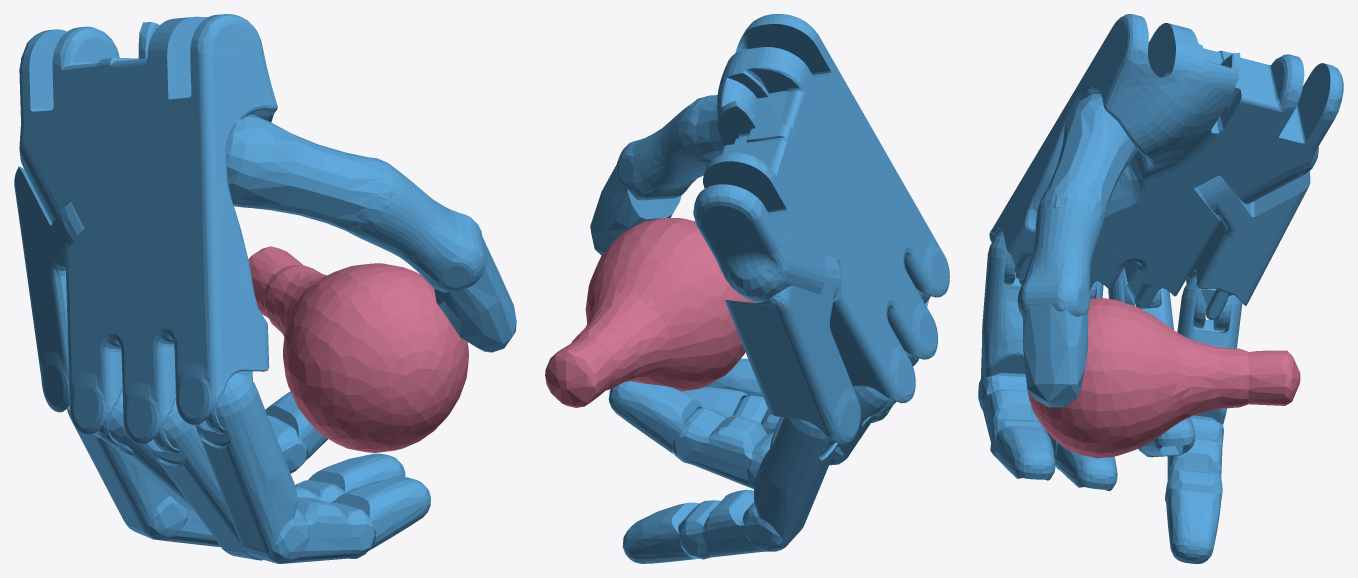
3 renders of one model, left to right at view 1: azimuth 30°, elevation 25°; view 2: azimuth 150°, elevation 25°; view 3: azimuth 270°, elevation 25°, orthographic. The views are drawn at different scales.
Parts seen in each view (by area): view 1: 4; view 2: 4; view 3: 4.
Boxes of the visible parts, x1=… form: 4: x1=14, y1=14, x2=516, y2=563; 4: x1=545, y1=14, x2=949, y2=563; 4: x1=978, y1=14, x2=1343, y2=563.
Size of the model in its own units: 0.1231 by 0.1792 by 0.1195.
